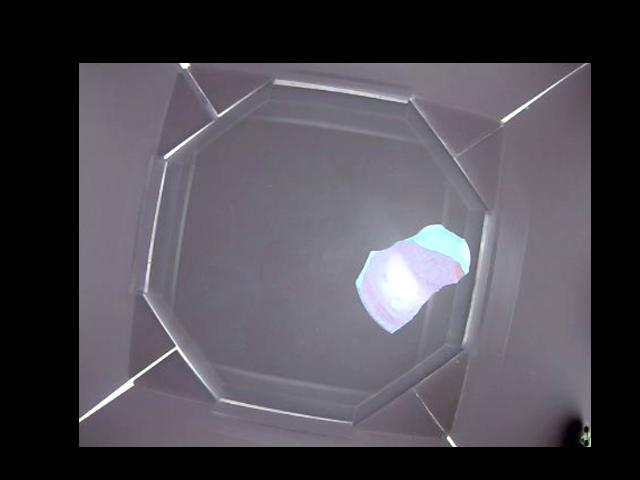China: (358, 221, 471, 334)
